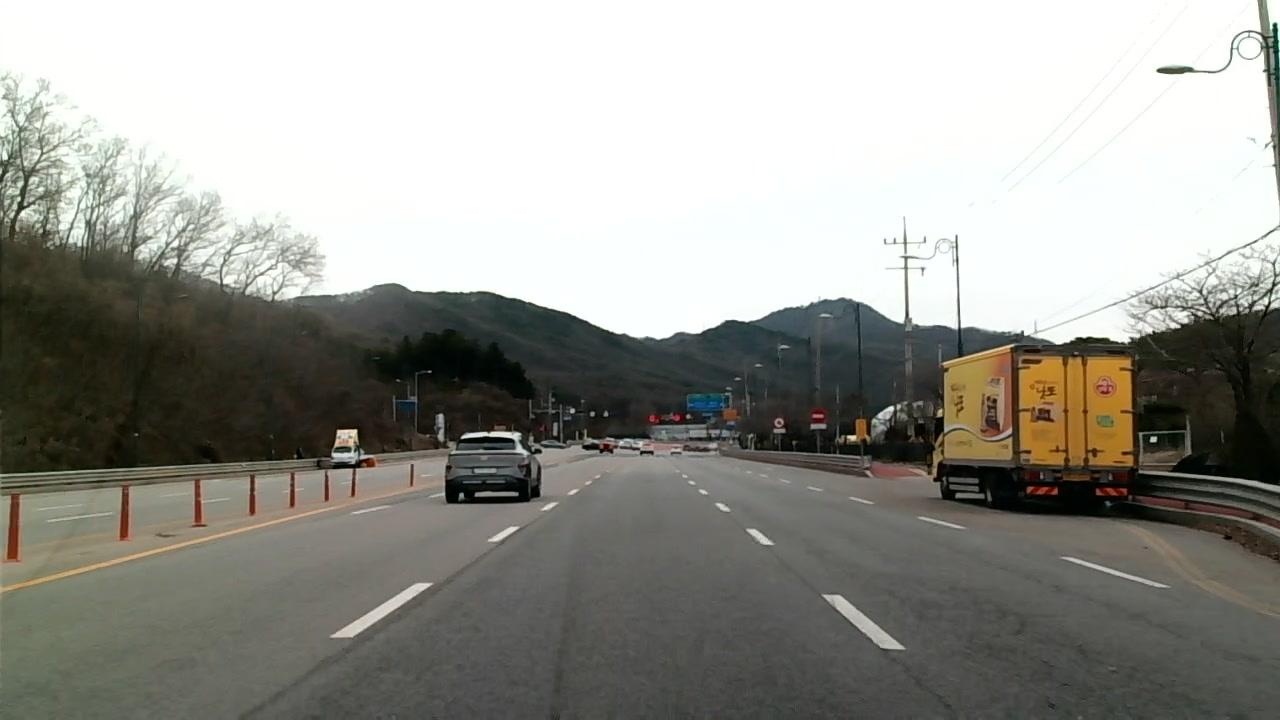banner: (1040, 577, 1201, 641), (879, 645, 975, 720)
